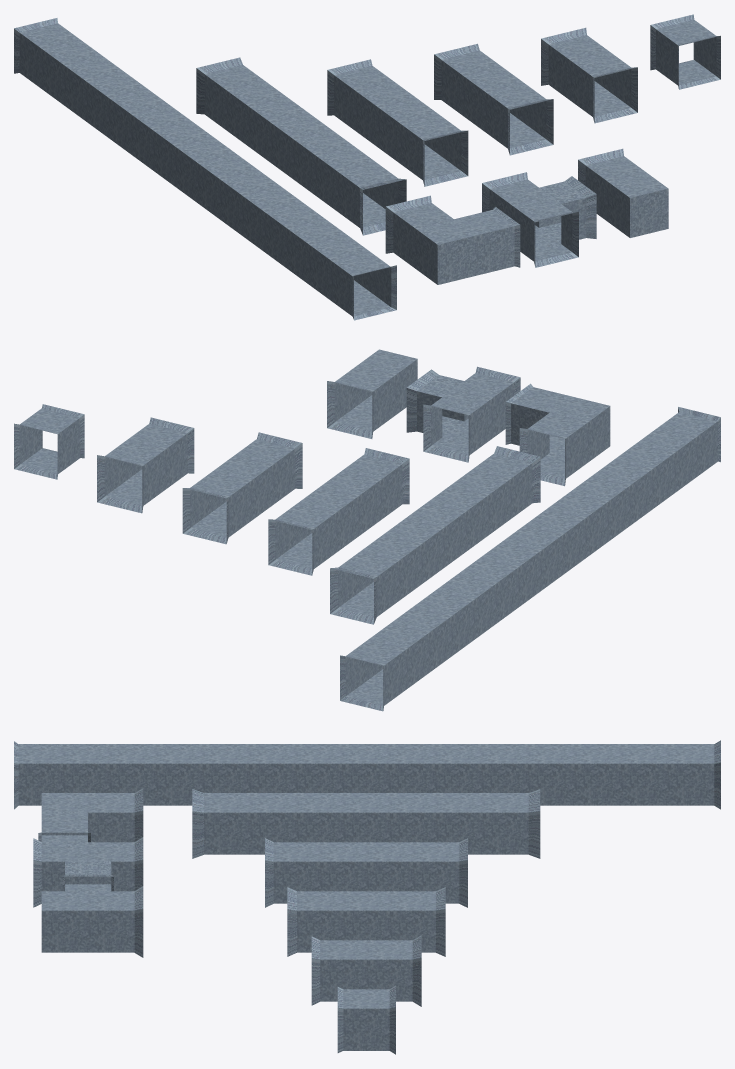
The model's file is VentilationForSketchfab.fbx.
3 renders of one model, top to bottom at view 1: azimuth 30°, elevation 25°; view 2: azimuth 150°, elevation 25°; view 3: azimuth 270°, elevation 25°, orthographic. The views are drawn at different scales.
Visible parts, largest first — view 1: Куб.006, Куб.005, Куб.004, Куб.001, Куб.003, Куб.008, Куб.002, Куб.007, Куб; view 2: Куб.006, Куб.005, Куб.004, Куб.003, Куб.008, Куб.001, Куб.002, Куб.007, Куб; view 3: Куб.006, Куб.005, Куб.004, Куб.003, Куб.007, Куб.002, Куб.008, Куб.001, Куб.
Part boxes in pixels (bbox=[...]): Куб.006: bbox=[14, 18, 396, 320]; Куб.005: bbox=[196, 57, 406, 235]; Куб.004: bbox=[327, 59, 468, 186]; Куб.001: bbox=[385, 195, 520, 284]; Куб.003: bbox=[434, 43, 553, 155]; Куб.008: bbox=[482, 172, 596, 267]; Куб.002: bbox=[541, 27, 637, 123]; Куб.007: bbox=[578, 148, 668, 237]; Куб: bbox=[650, 14, 720, 89]; Куб.006: bbox=[340, 407, 720, 711]; Куб.005: bbox=[330, 446, 540, 624]; Куб.004: bbox=[268, 448, 409, 575]; Куб.003: bbox=[182, 432, 302, 544]; Куб.008: bbox=[406, 366, 520, 462]; Куб.001: bbox=[505, 383, 610, 486]; Куб.002: bbox=[97, 417, 194, 513]; Куб.007: bbox=[327, 349, 417, 438]; Куб: bbox=[14, 404, 84, 479]; Куб.006: bbox=[14, 740, 720, 809]; Куб.005: bbox=[192, 789, 540, 858]; Куб.004: bbox=[265, 838, 467, 907]; Куб.003: bbox=[287, 887, 445, 956]; Куб.007: bbox=[41, 886, 143, 957]; Куб.002: bbox=[311, 935, 421, 1006]; Куб.008: bbox=[33, 837, 143, 907]; Куб.001: bbox=[38, 788, 143, 842]; Куб: bbox=[337, 985, 395, 1054].
Size of the model in its own units: 2726 by 235 by 3048.
